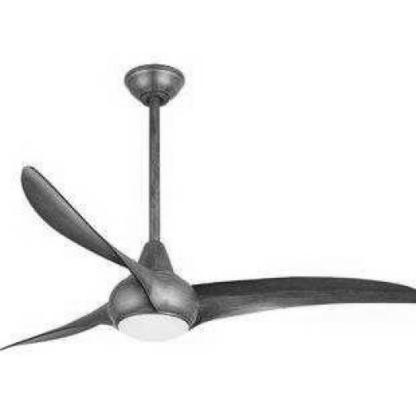ceiling-fan: (18, 60, 415, 367)
